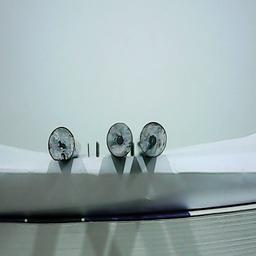pen: (138, 120, 168, 157), (105, 121, 134, 158), (47, 126, 75, 160)
